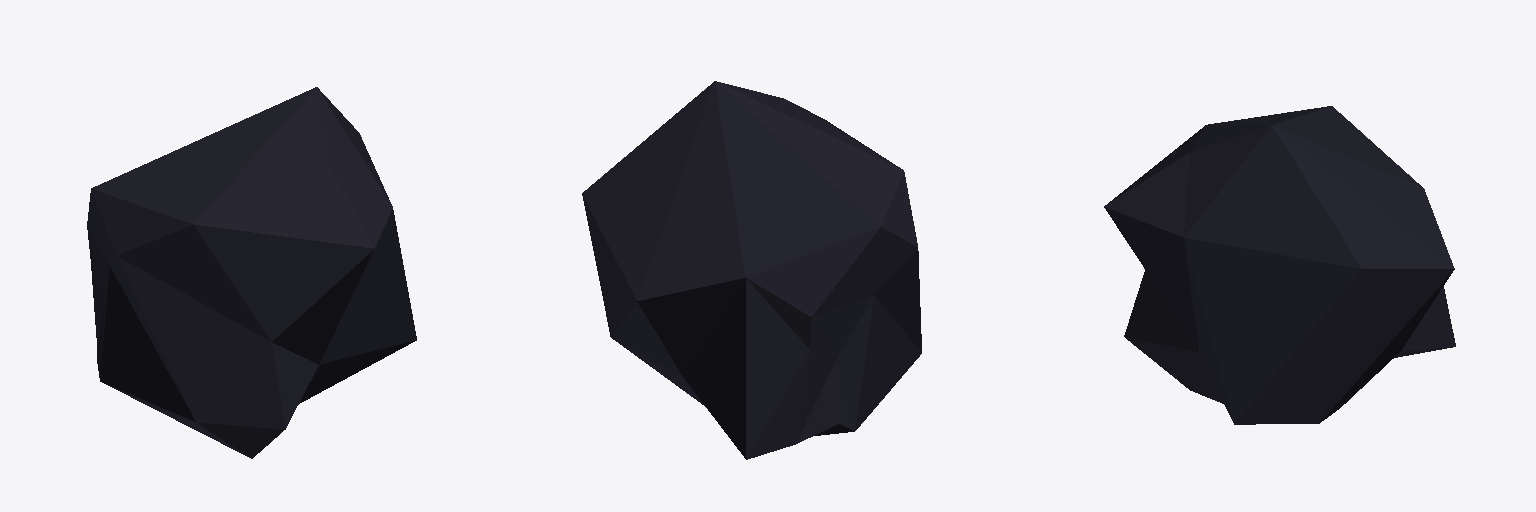
Rendered from rock2.obj.
The picture shows the model from 3 angles: view 1: azimuth 30°, elevation 25°; view 2: azimuth 150°, elevation 25°; view 3: azimuth 270°, elevation 25°; orthographic projection.
Parts seen in each view (by area): view 1: Cube; view 2: Cube; view 3: Cube.
Part boxes in pixels (left/top/right/bottom): Cube: left=87, top=87, right=416, bottom=458; Cube: left=582, top=81, right=921, bottom=459; Cube: left=1104, top=106, right=1455, bottom=424.
Bounding box in the file's own units: 2.88 × 3.01 × 3.04.